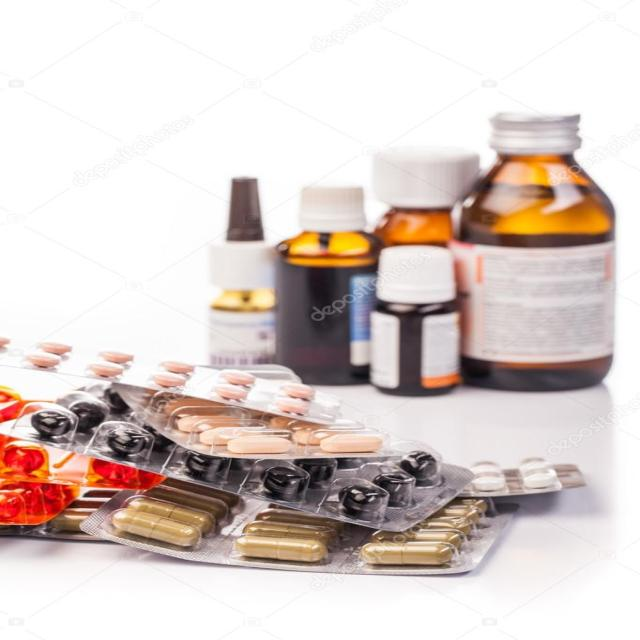B3: (443, 100, 637, 404), (88, 475, 531, 588), (2, 326, 356, 437), (102, 377, 438, 478), (266, 178, 391, 396), (187, 170, 300, 367), (363, 235, 470, 401)
